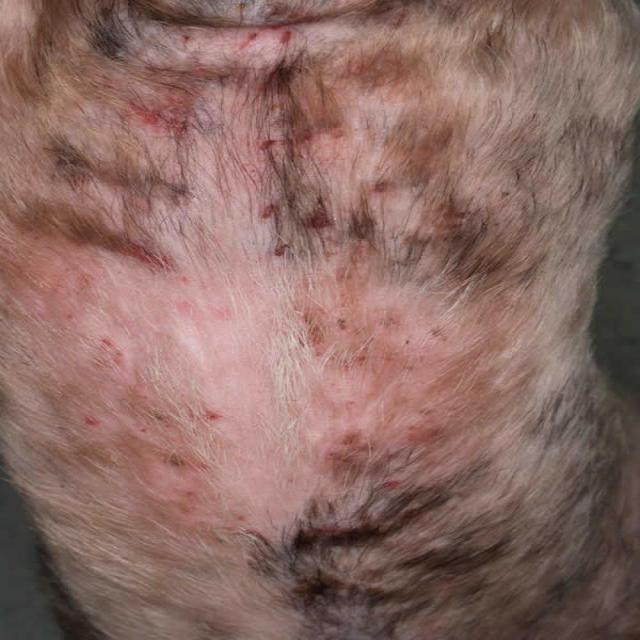allergic dermatitis: (0, 0, 531, 513)
